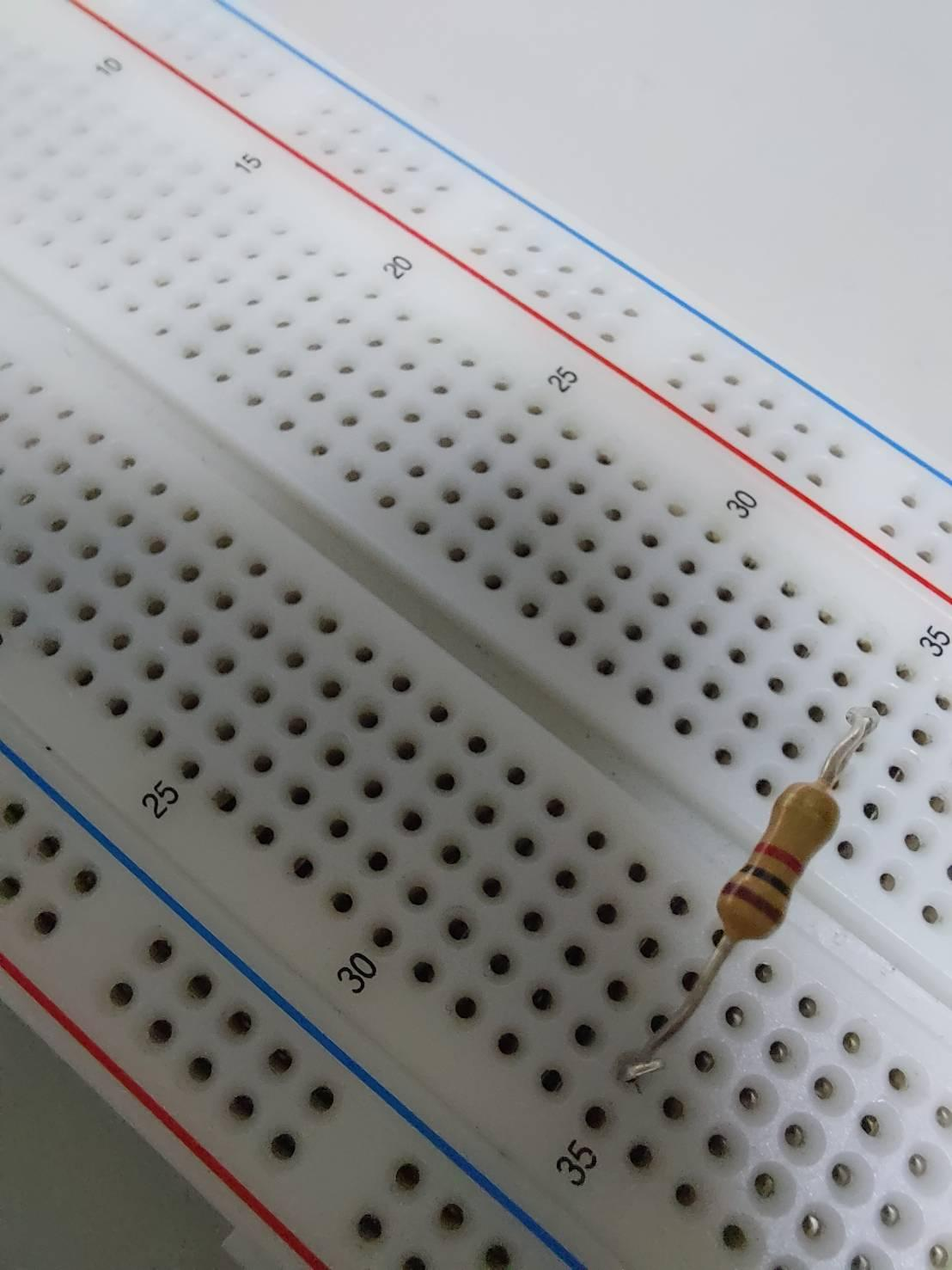resistor: (706, 769, 844, 954)
